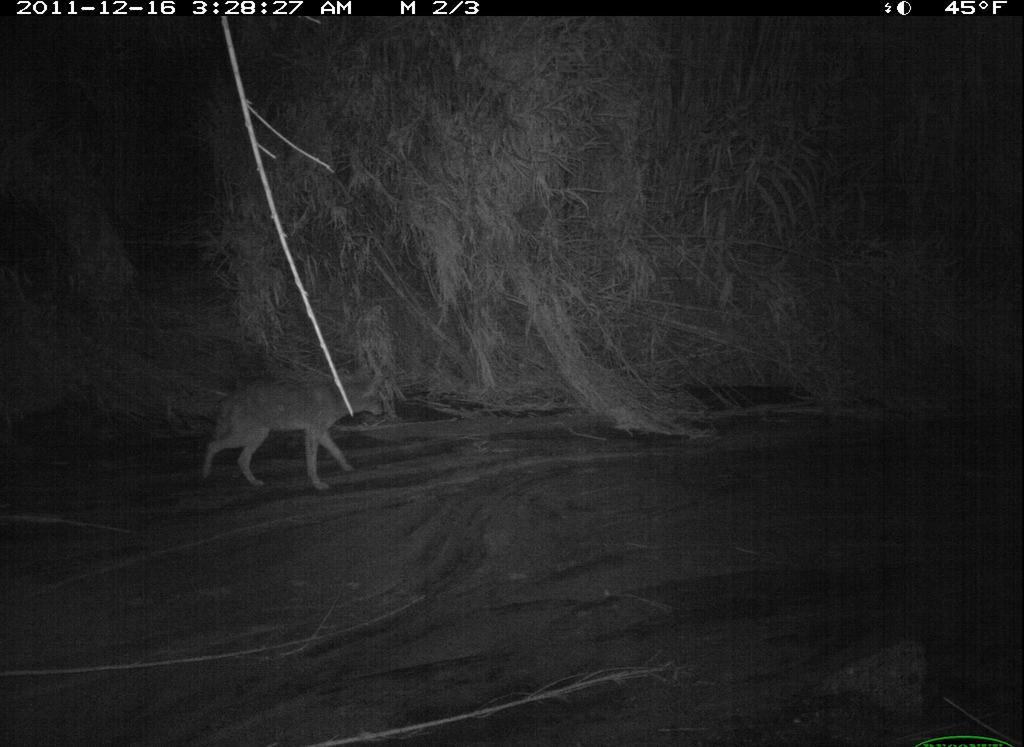coyote: (194, 361, 395, 493)
